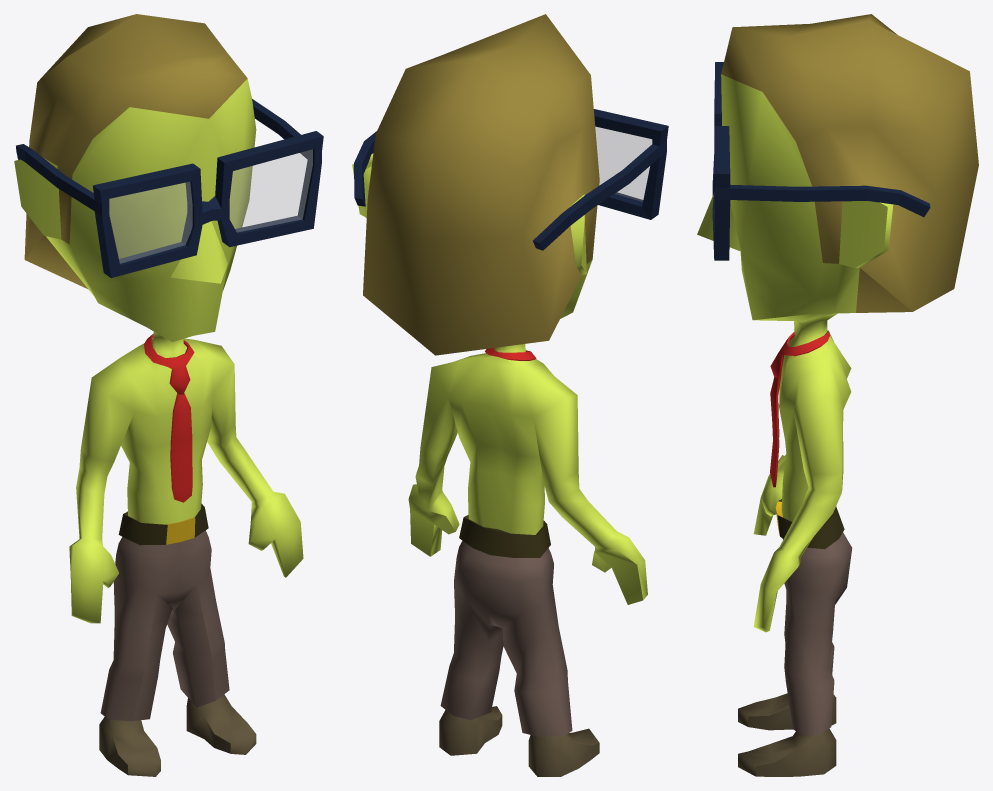
Rendered from lowpoly_stylish_zombie.glb.
The picture shows the model from 3 angles, left to right: view 1: azimuth 30°, elevation 25°; view 2: azimuth 150°, elevation 25°; view 3: azimuth 270°, elevation 25°; orthographic projection. The views are drawn at different scales.
Parts seen in each view (by area): view 1: body_0, glasses_1, tie_2; view 2: body_0, glasses_1; view 3: body_0, glasses_1, tie_2.
Boxes of the visible parts, <box> form: body_0: <box>14,14,303,776</box>; glasses_1: <box>16,99,323,277</box>; tie_2: <box>144,333,194,502</box>; body_0: <box>352,14,647,776</box>; glasses_1: <box>354,109,668,250</box>; body_0: <box>697,14,978,776</box>; glasses_1: <box>712,62,930,260</box>; tie_2: <box>770,331,830,487</box>.
Size of the model in its own units: 0.3634 by 1.06 by 0.3757.
